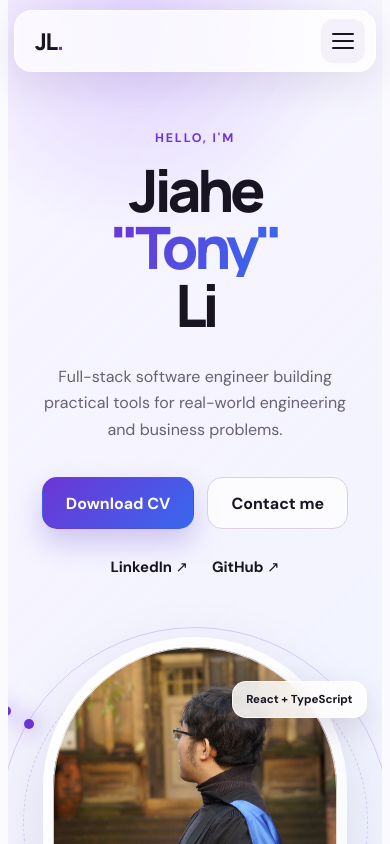
Scenario: portfolio application › opens and closes the mobile navigation menu
Click the button named "Open navigation menu": x=343, y=41 [321,19,365,63]
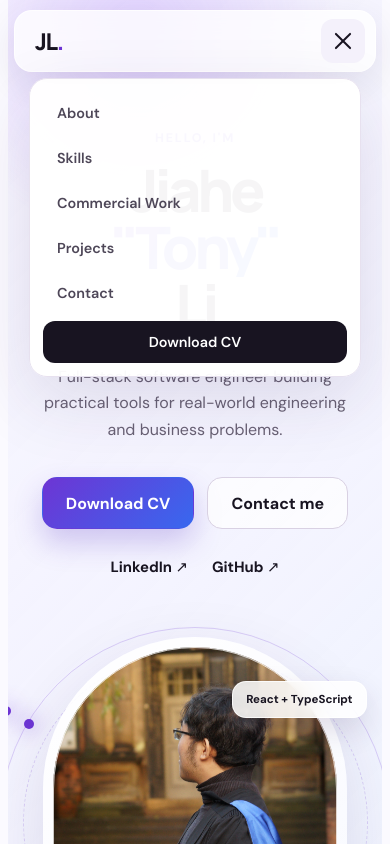
Check: the button named "Open navigation menu" is expanded, box [321,19,365,63]
Click the link "Skills": x=75, y=158 [57,149,92,167]
(page scrolled)
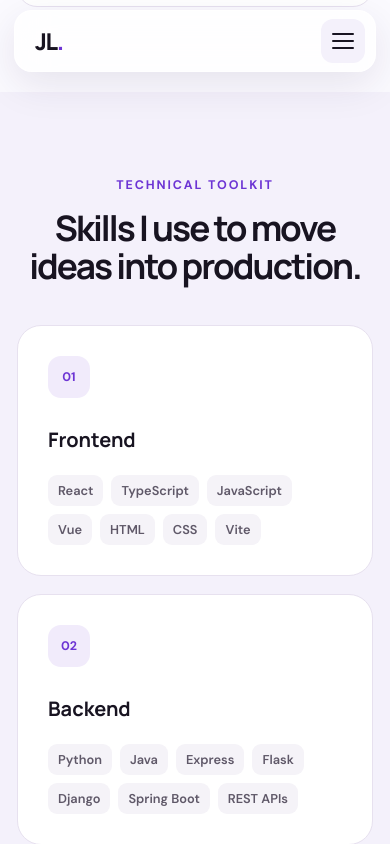
Check: the button named "Open navigation menu" is collapsed, box [321,19,365,63]
